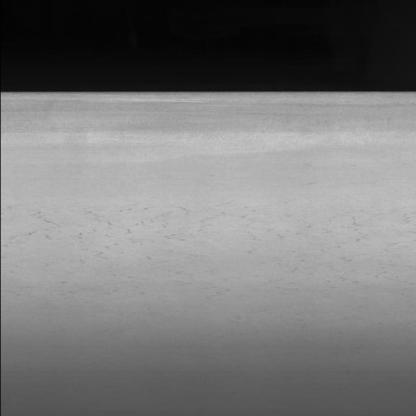silk_spot: (4, 194, 399, 299)
